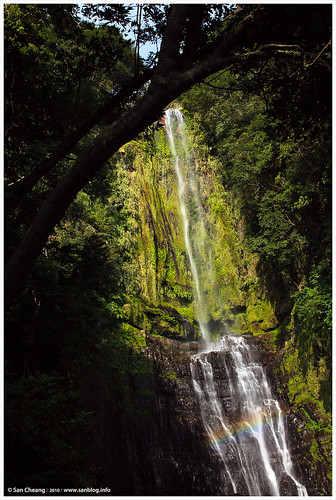wufengciWaterfall: (120, 107, 306, 499)
